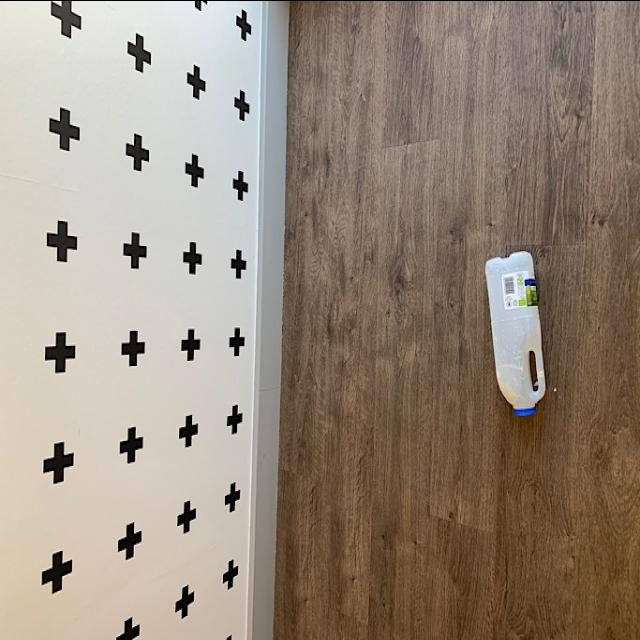HDPEM: (485, 254, 549, 420)
